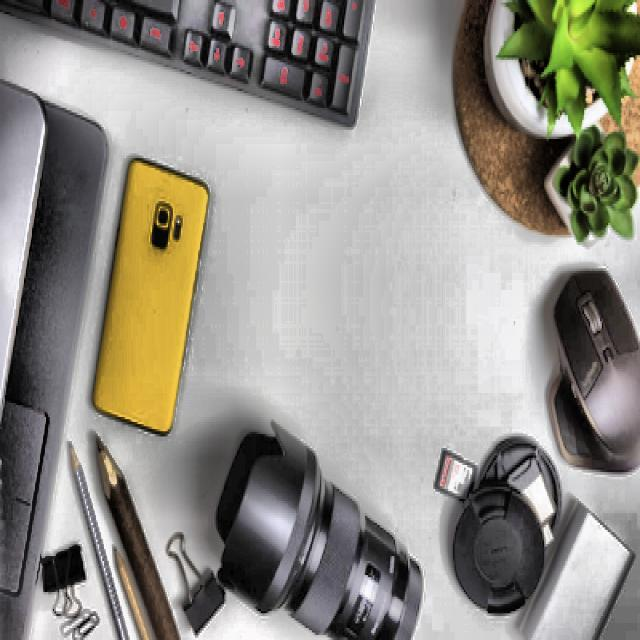Phone: (88, 152, 211, 440)
